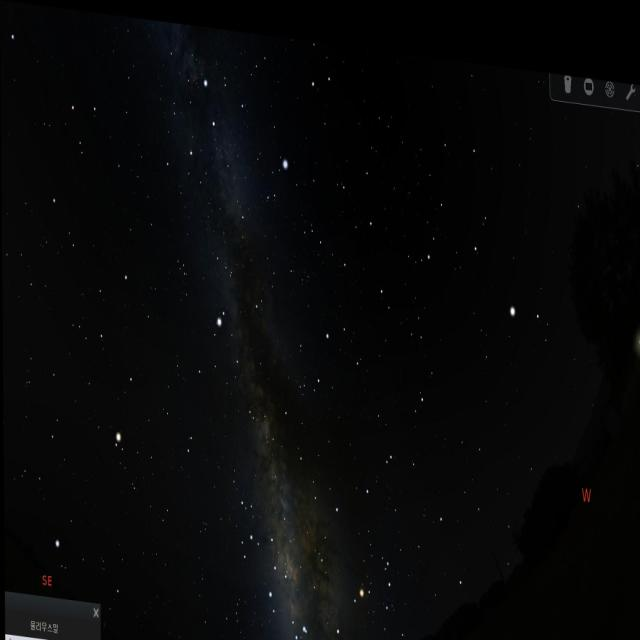aquila: (186, 254, 271, 430)
bootes: (433, 117, 531, 343)
cygnus: (184, 61, 251, 244)
lyra: (255, 148, 293, 208)
sagittarius: (220, 475, 285, 578)
scorpius: (285, 510, 401, 640)
